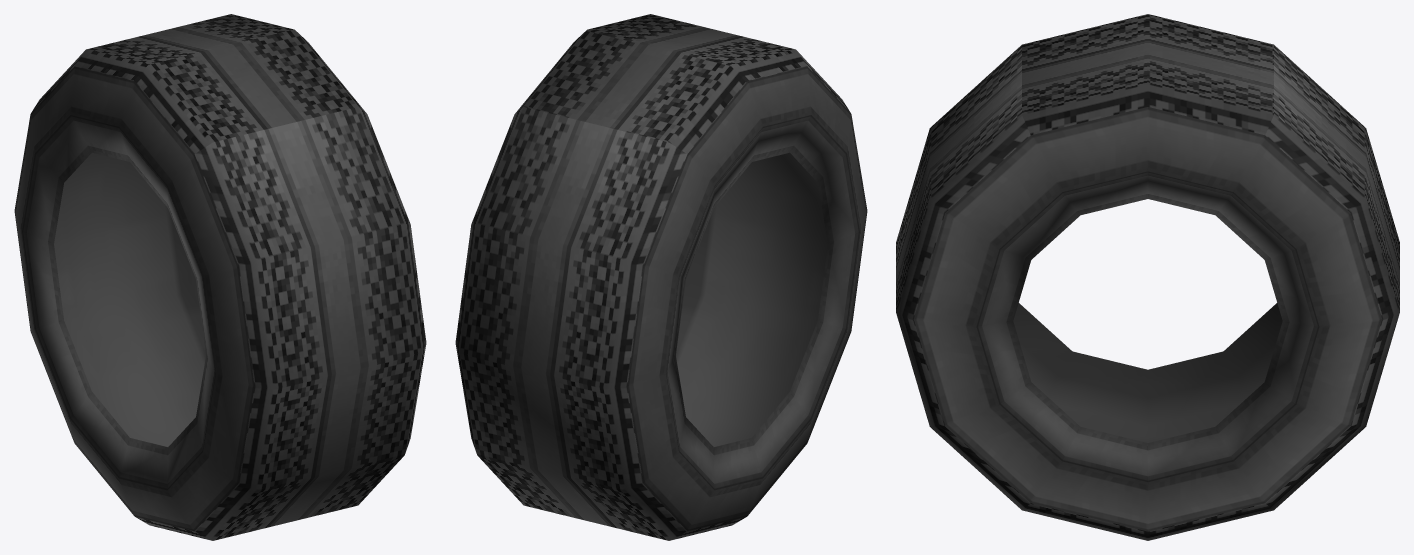
The model's file is LlantaB.fbx.
3 views of the same model, side by side, from view 1: azimuth 30°, elevation 25°; view 2: azimuth 150°, elevation 25°; view 3: azimuth 270°, elevation 25° (orthographic).
Visible parts, largest first — view 1: llanta de carro; view 2: llanta de carro; view 3: llanta de carro.
Part boxes in pixels (left/top/right/bottom): llanta de carro: left=14, top=14, right=426, bottom=540; llanta de carro: left=455, top=14, right=867, bottom=540; llanta de carro: left=896, top=14, right=1399, bottom=540.
Size of the model in its own units: 203 by 436 by 436.
Materials: 1 (1 with a texture image).
